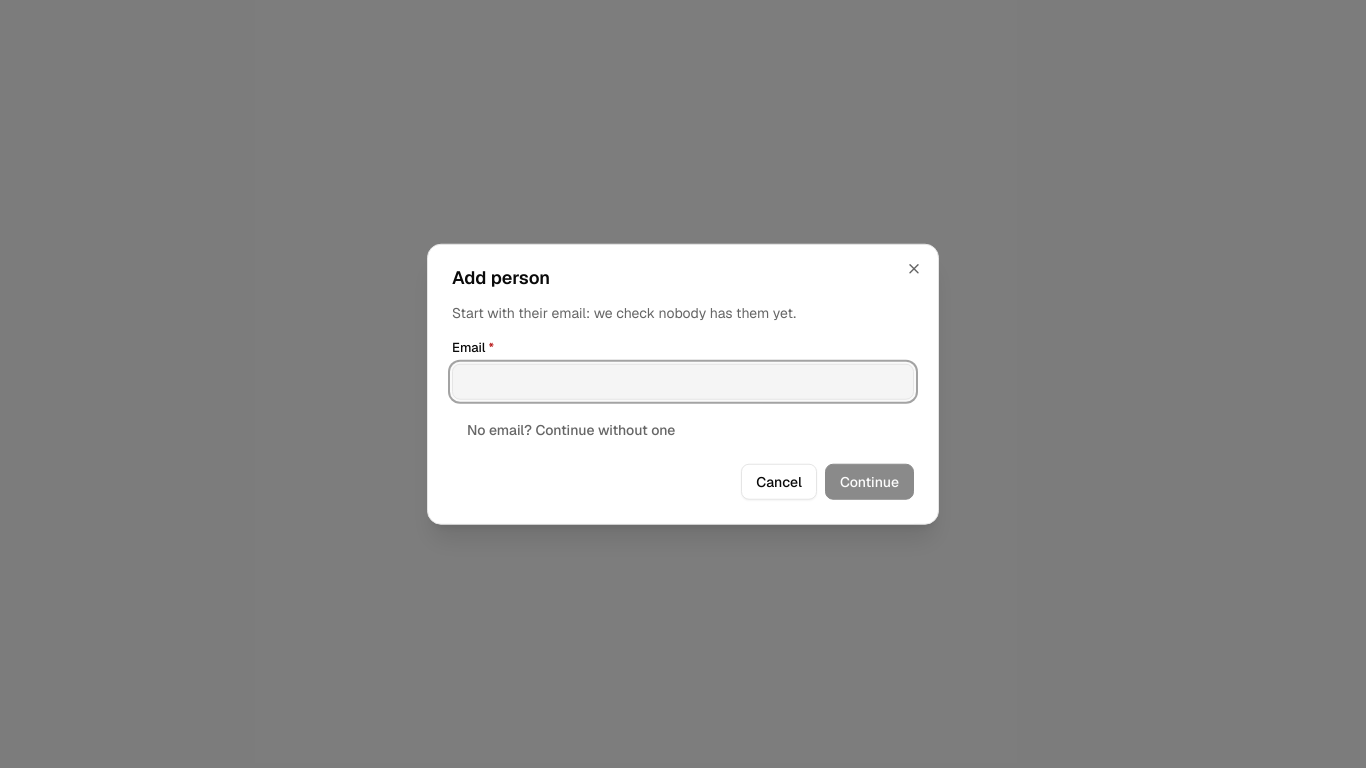
Test: Add person: the address first › the company is required, and saving without one says so under it
Later steps or results of the test are not shown.
Click the button "No email? Continue without one": (571, 429) x1=452 y1=411 x2=690 y2=447
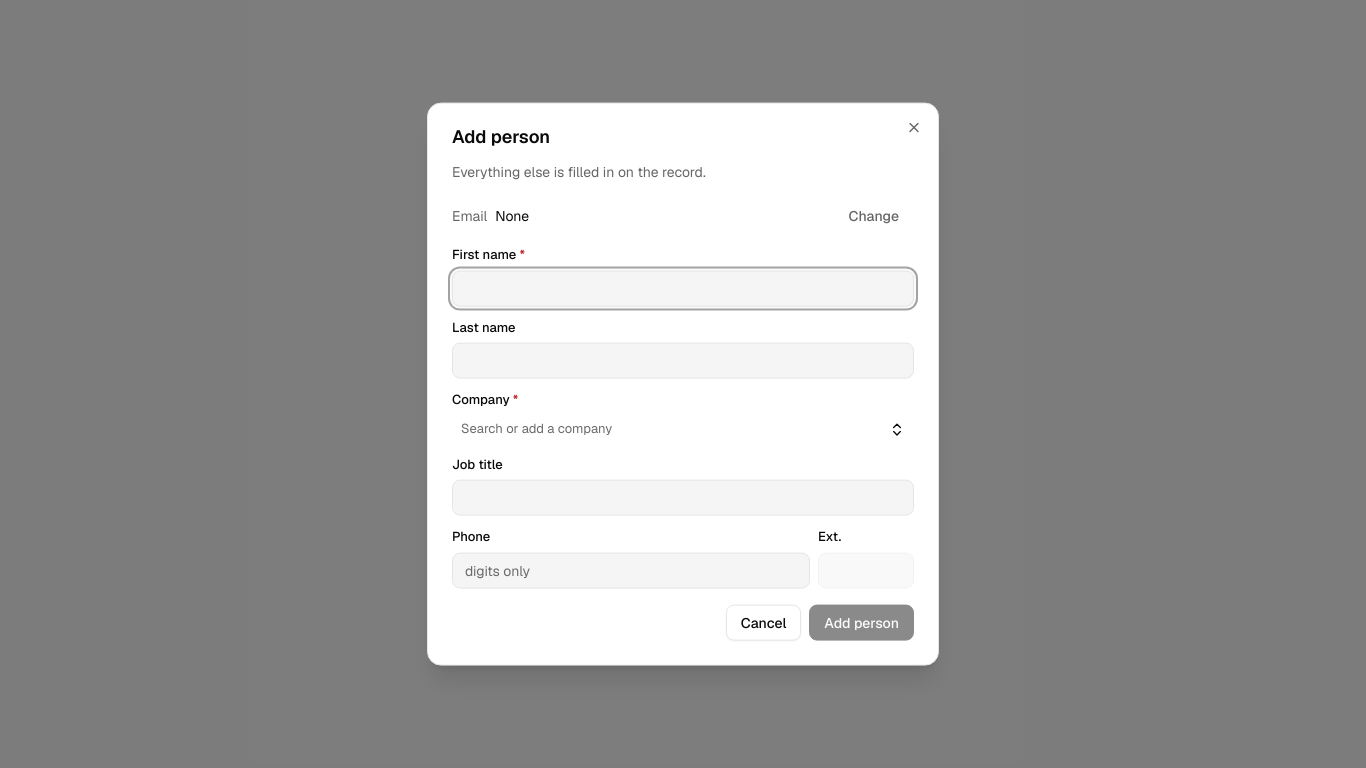
In the field labelled "First name *": (683, 288) x1=452 y1=270 x2=914 y2=306, type "Derek"
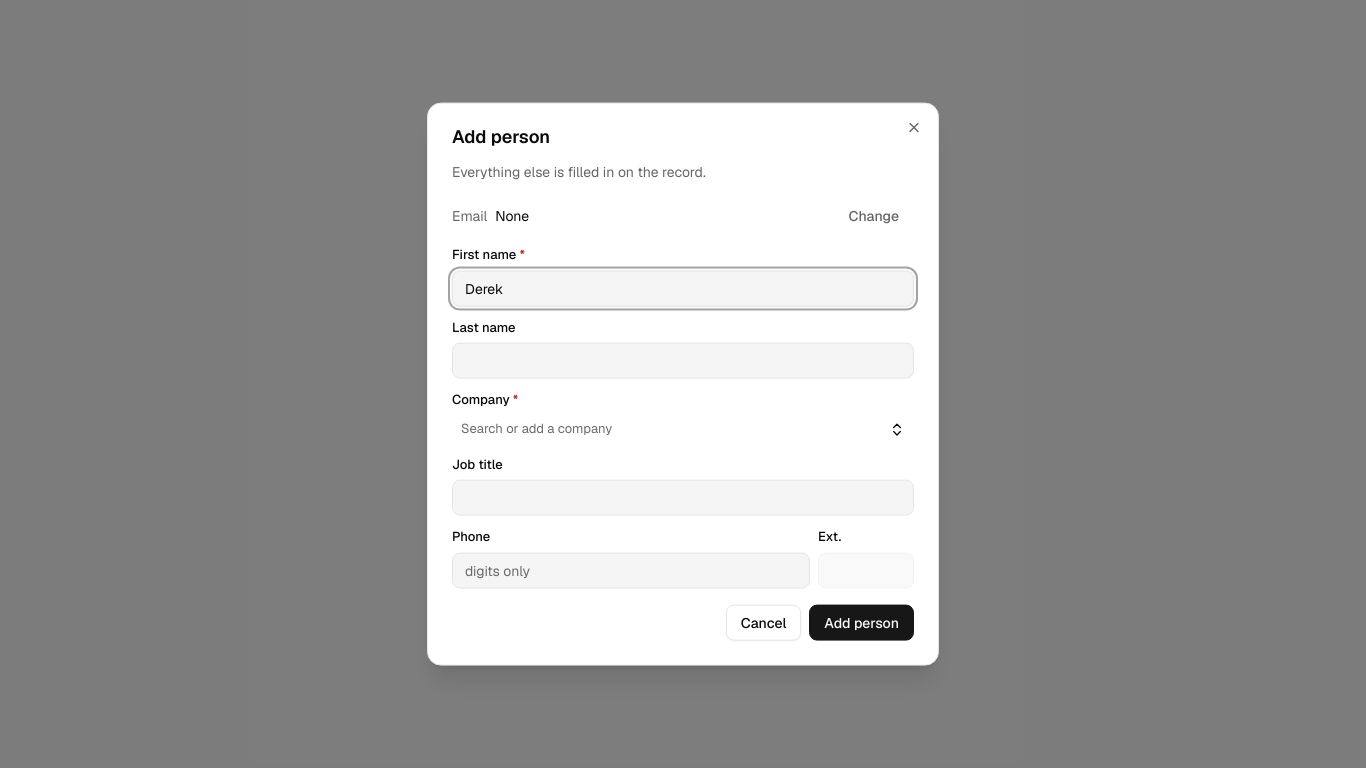
Click the button "Add person": (862, 622) x1=809 y1=604 x2=914 y2=640
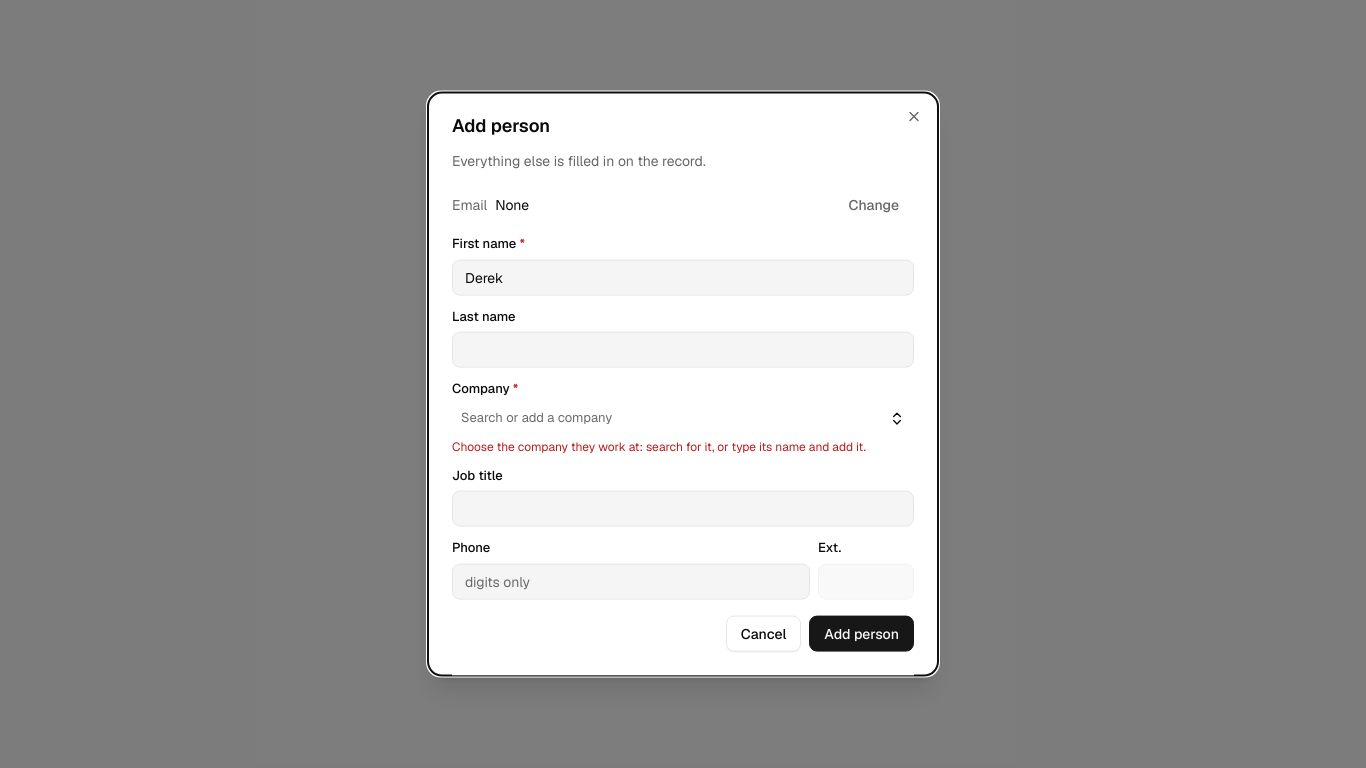
expect the text "Choose the company they work at: search for it, or type its name and add it." is shown: met, box x1=452 y1=438 x2=914 y2=454
Click the button with aria-label "Company:": (537, 418) x1=452 y1=404 x2=914 y2=432
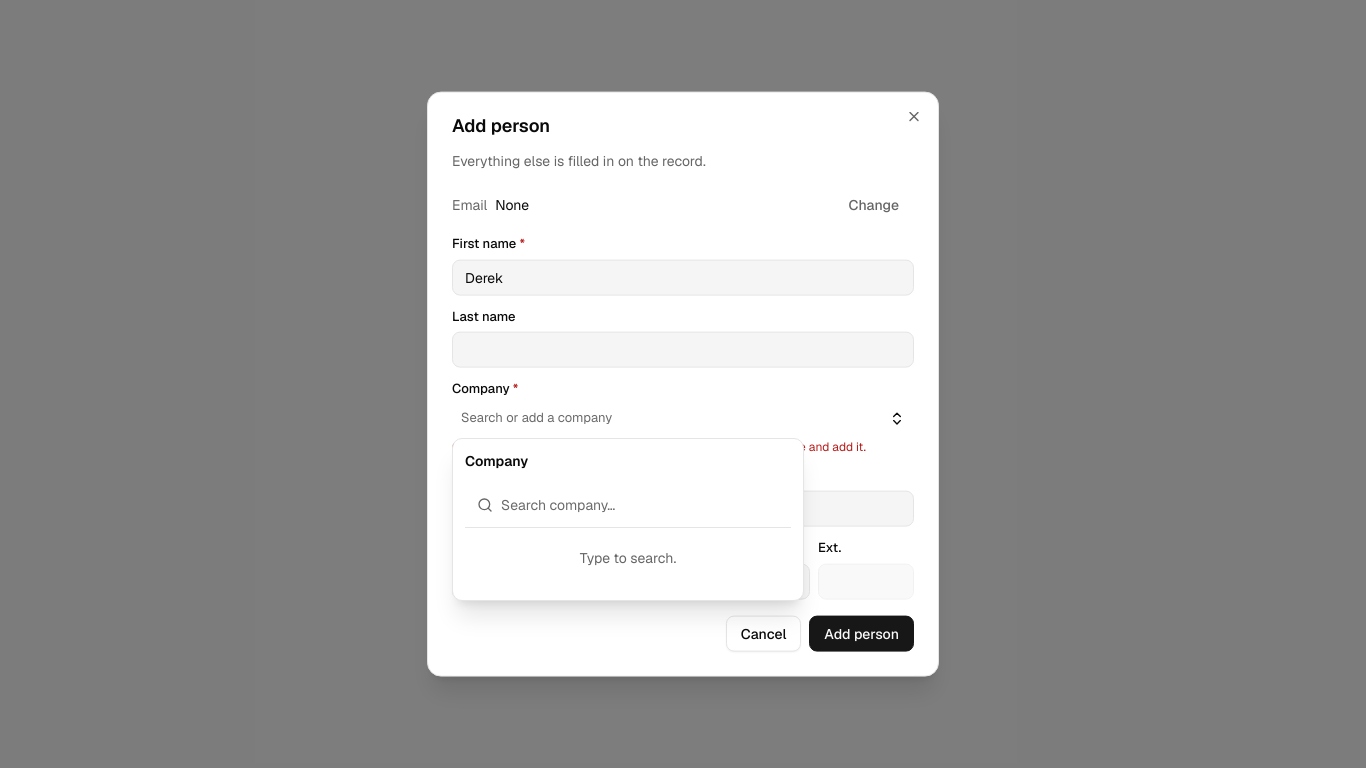
In the dropdown labelled "Search company": (640, 505) x1=501 y1=483 x2=779 y2=527, type "acme"
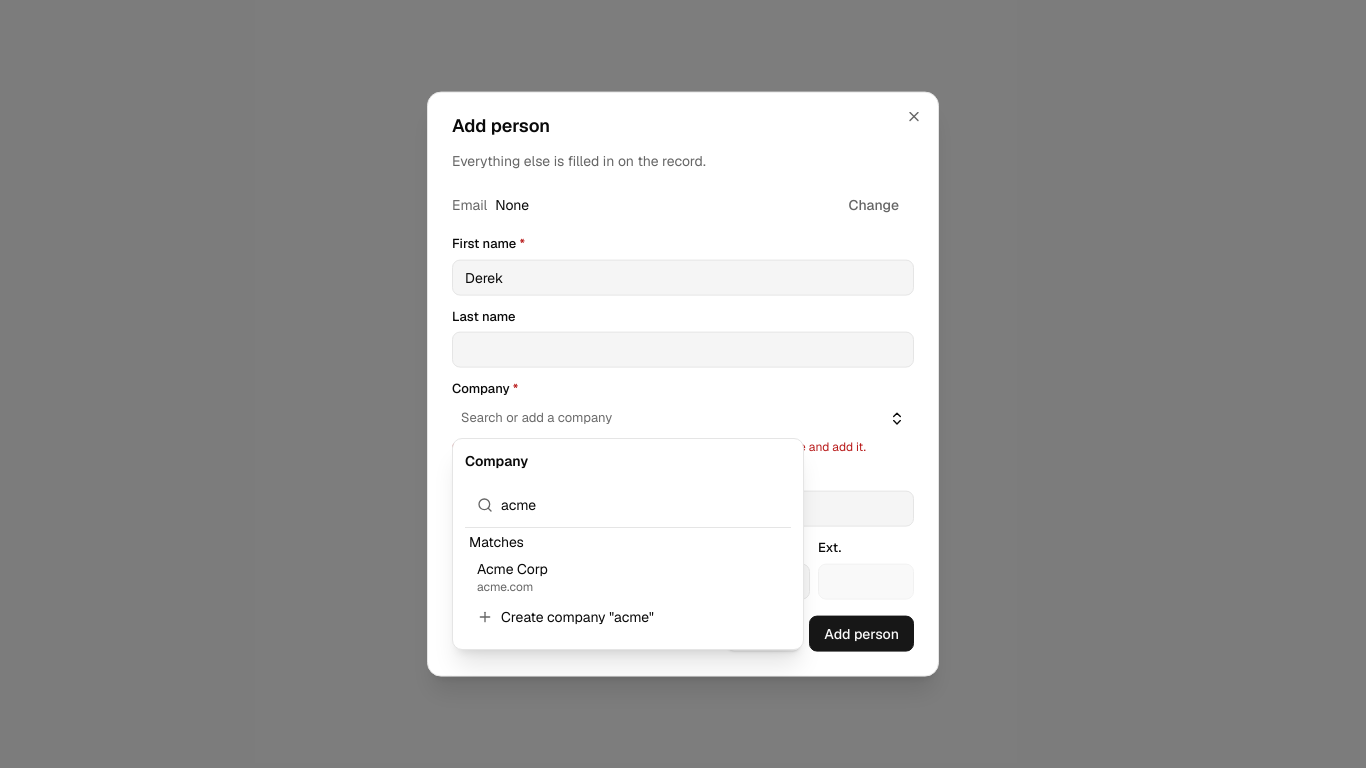
Click the option "Acme Corp acme.com": (512, 569) x1=469 y1=553 x2=787 y2=601
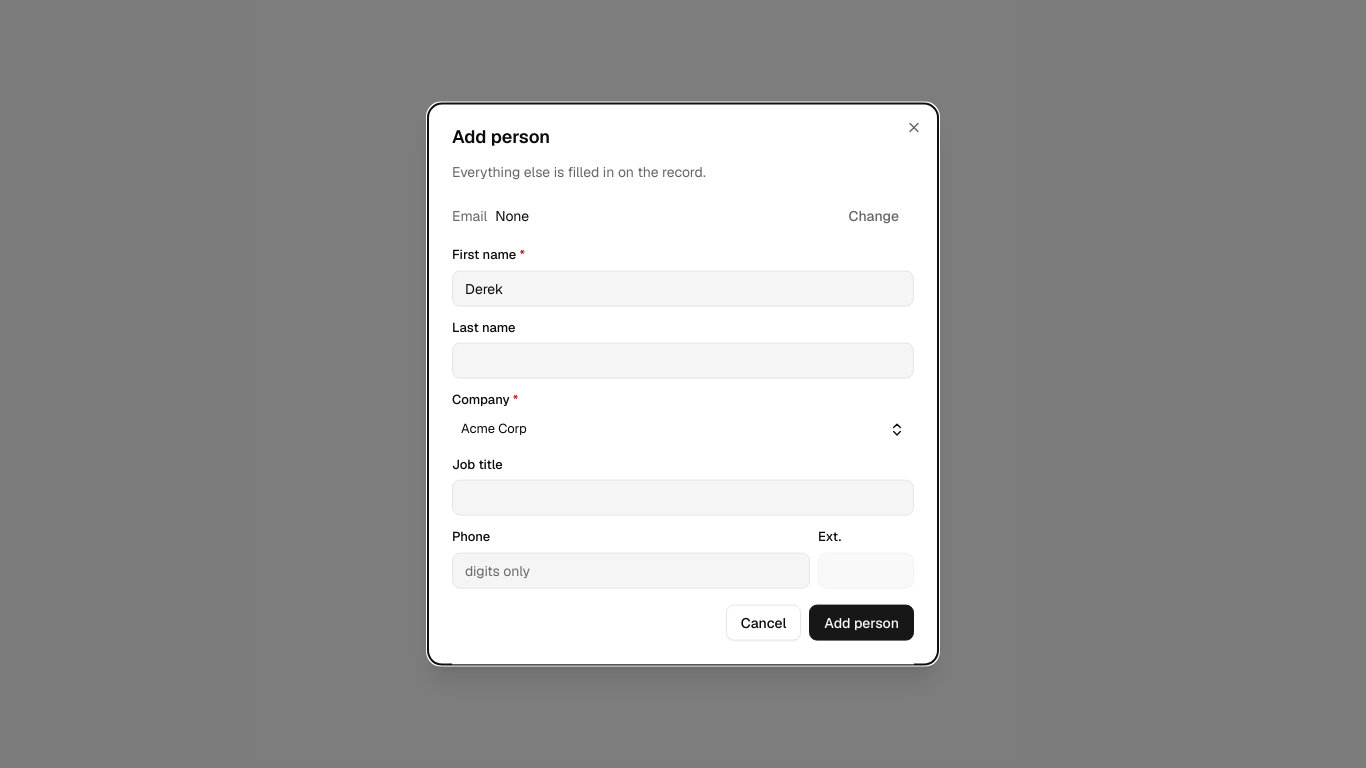
expect the text "Choose the company they work at" is gone: met
